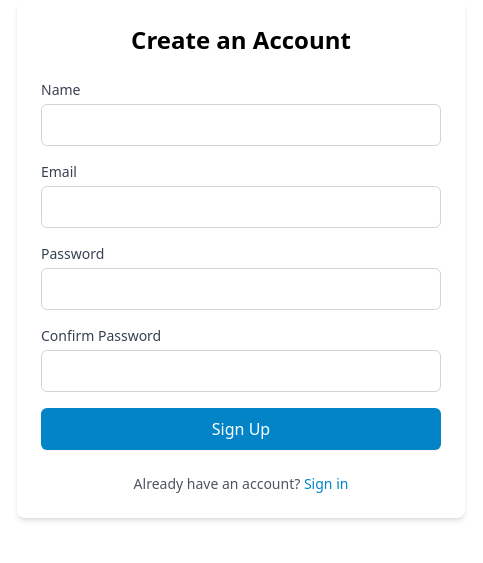
Scenario: SignUpForm Component › should enforce password complexity requirements
This screenshot has width=483, height=563.
// Fill form with simple password
In the field labelled "Name": (241, 125) [41,104,441,146], type "Test User"
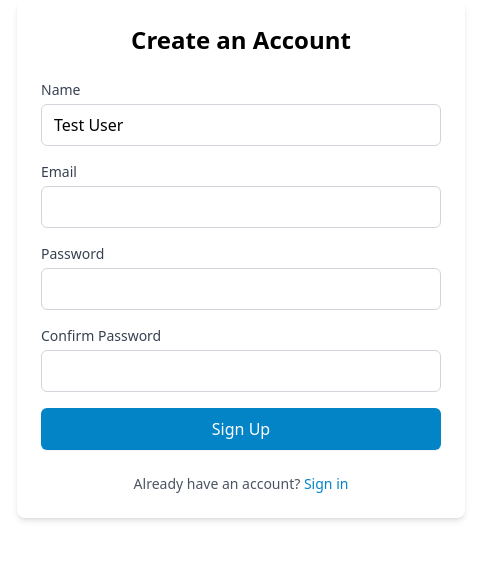
In the field labelled "Email": (241, 207) [41,186,441,228], type "test@example.com"
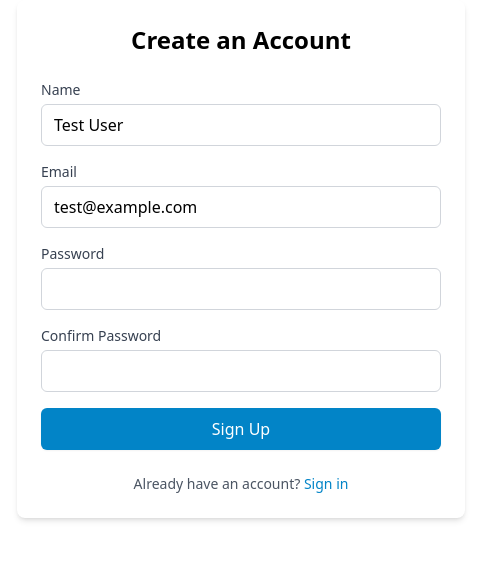
In the password field labelled "Password": (241, 289) [41,268,441,310], type "simple"
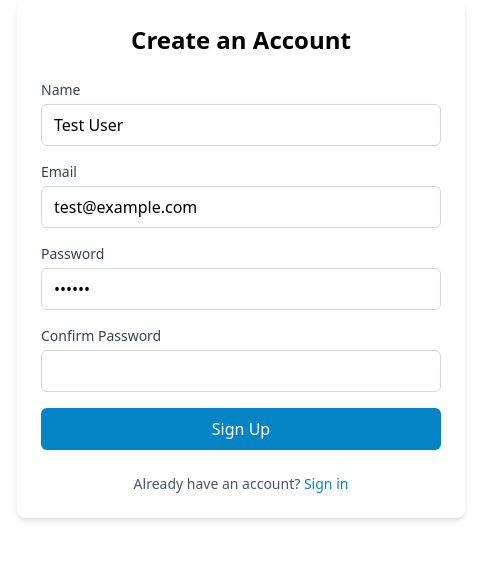
In the password field labelled "Confirm Password": (241, 371) [41,350,441,392], type "simple"
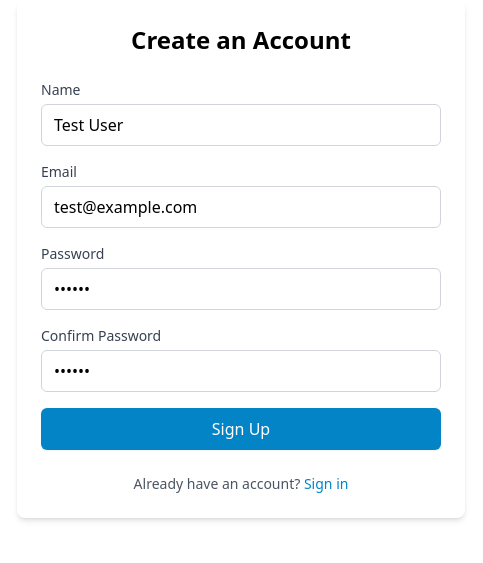
Click the button "Sign Up": (241, 429) [41,408,441,450]
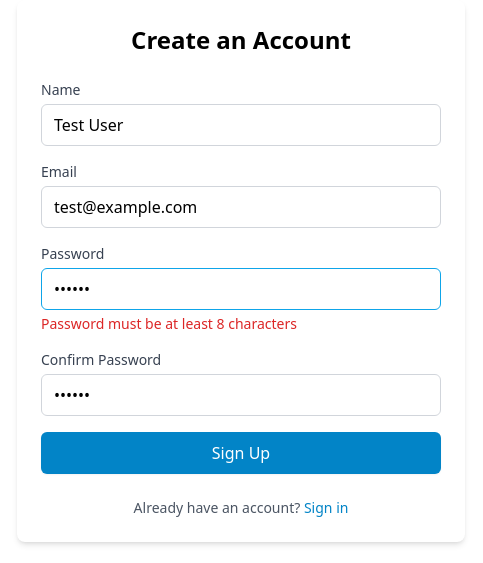
Now the text "Password must be at least 8 characters" is shown, box [41,314,297,333]
